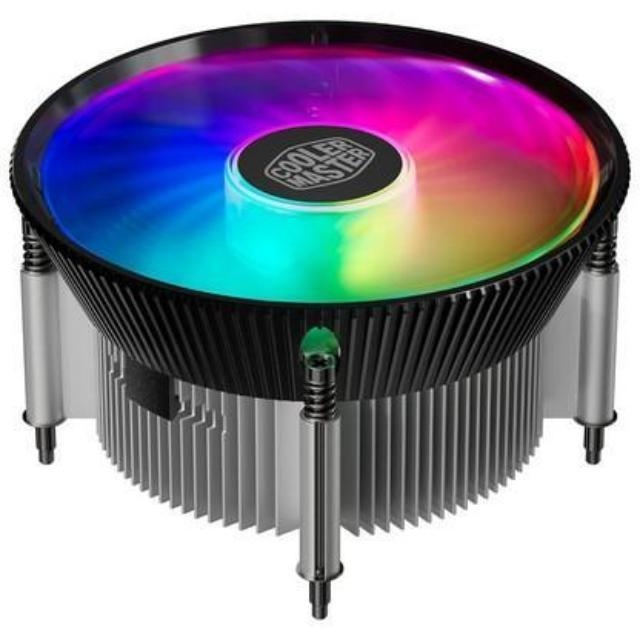CPU_Fan: (6, 16, 620, 630)
